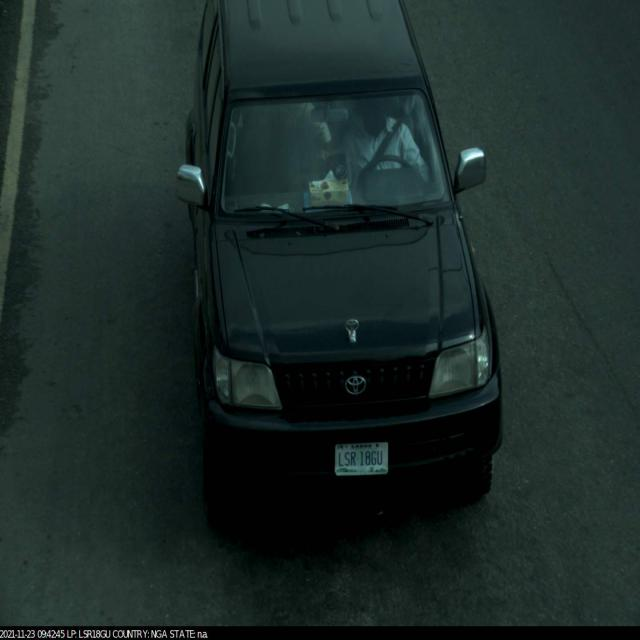windshield: (208, 75, 471, 236)
